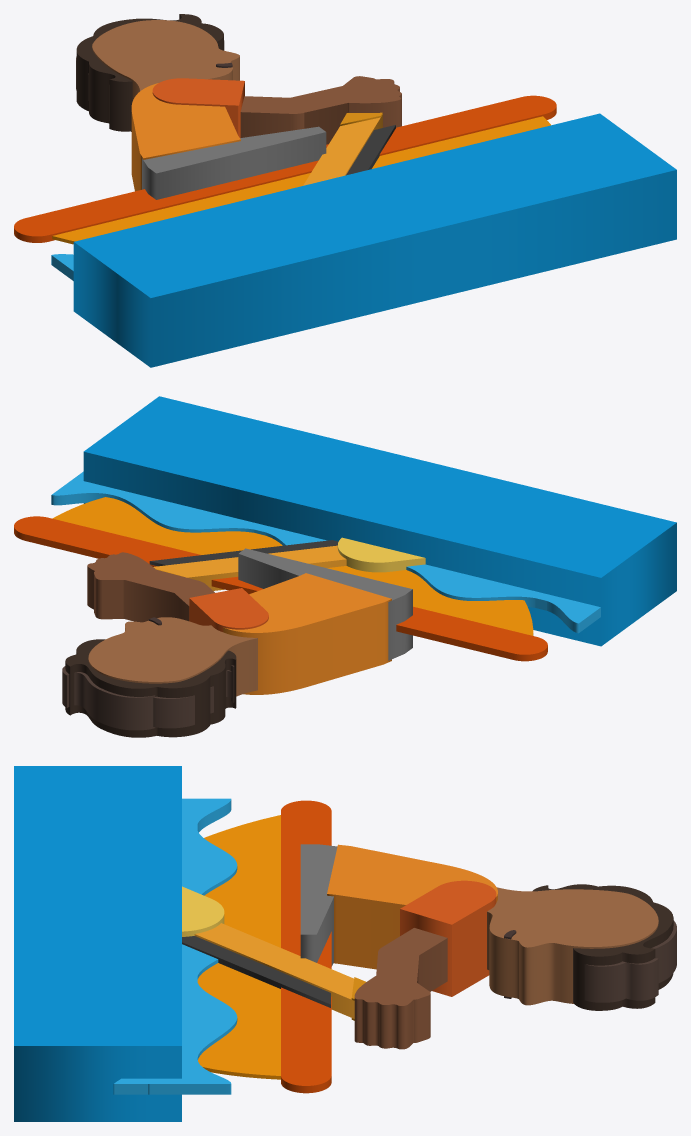
The model's file is emoji_u1f6a3_1f3fe.glb.
The picture shows the model from 3 angles, top to bottom: view 1: azimuth 30°, elevation 25°; view 2: azimuth 150°, elevation 25°; view 3: azimuth 270°, elevation 25°; orthographic projection. The views are drawn at different scales.
Parts seen in each view (by area): view 1: emoji_u1f6a3_1f3fe; view 2: emoji_u1f6a3_1f3fe; view 3: emoji_u1f6a3_1f3fe.
Boxes of the visible parts, x1,y1,x2,y2 form: emoji_u1f6a3_1f3fe: [14, 14, 676, 367]; emoji_u1f6a3_1f3fe: [14, 396, 676, 737]; emoji_u1f6a3_1f3fe: [14, 766, 676, 1121].
Bounding box in the file's own units: 0.0339 × 0.0042 × 0.0332.
